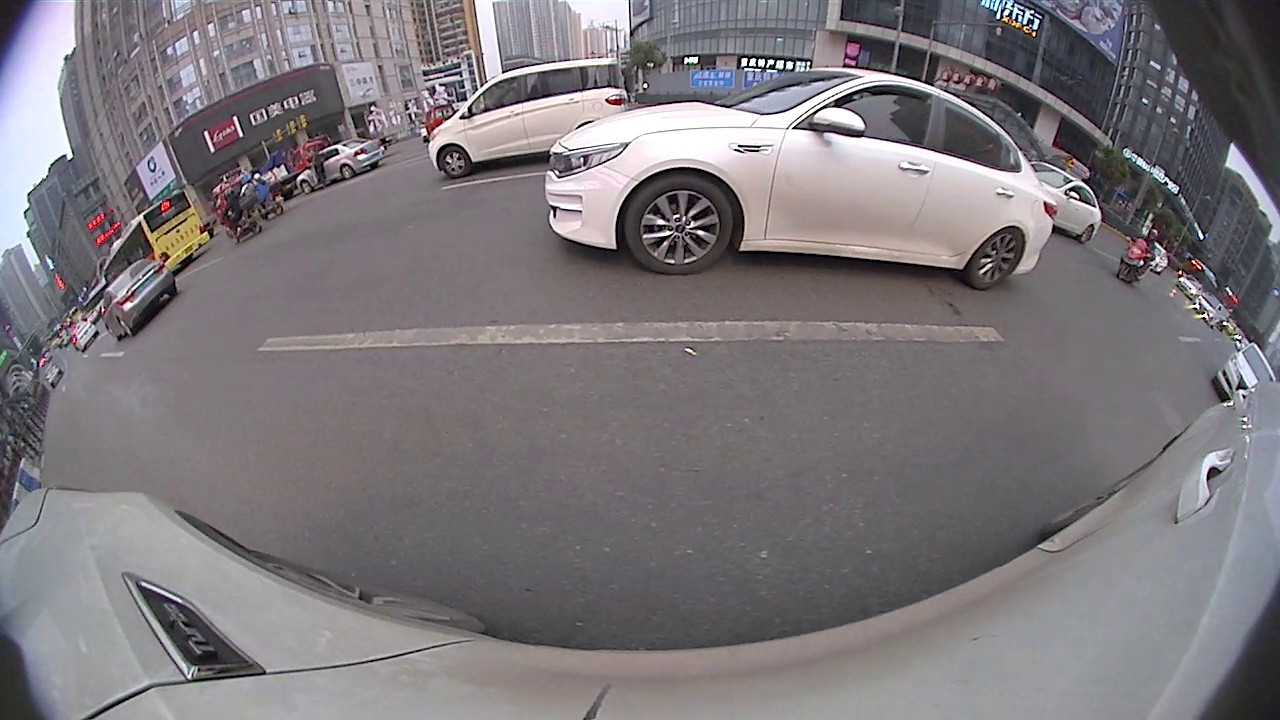bus: (98, 187, 207, 289)
car: (537, 64, 1060, 291), (420, 53, 636, 182), (1006, 160, 1110, 249), (97, 253, 180, 346), (292, 132, 386, 196)
front: (621, 171, 738, 277), (437, 145, 472, 180), (300, 180, 314, 195)
rear: (966, 224, 1025, 289), (117, 317, 137, 340), (1080, 225, 1094, 247), (340, 164, 355, 180)
rider: (212, 169, 268, 247), (1120, 231, 1159, 291)
